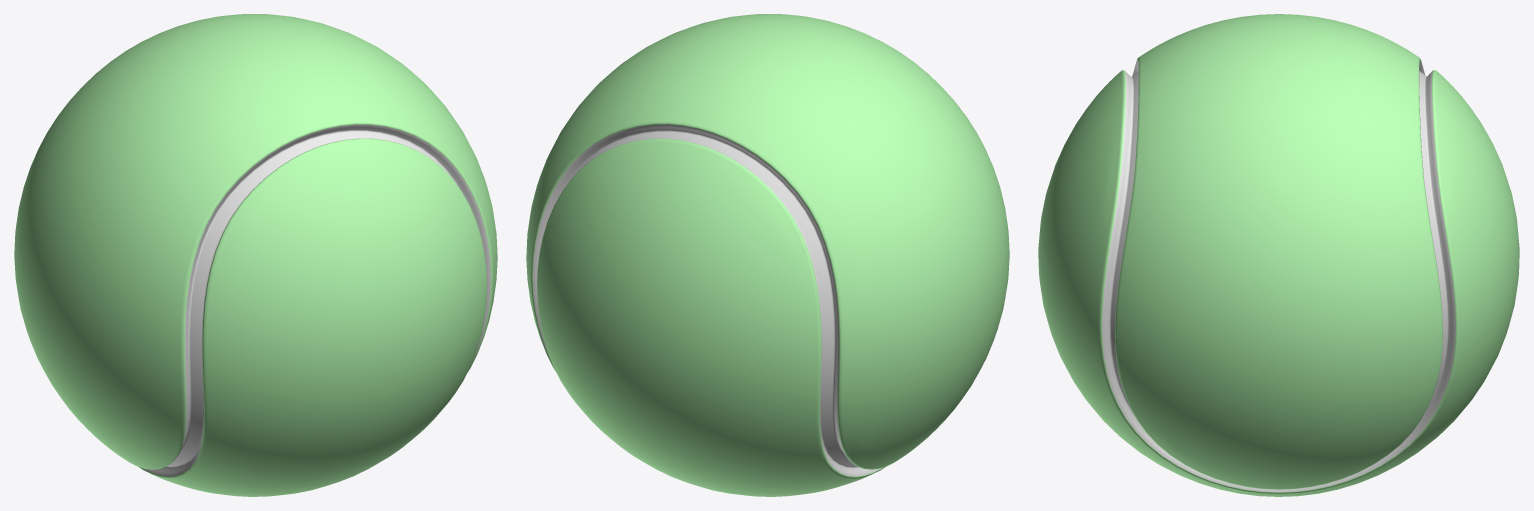
Rendered from fixedtennisball.fbx.
3 views of the same model, side by side, from view 1: azimuth 30°, elevation 25°; view 2: azimuth 150°, elevation 25°; view 3: azimuth 270°, elevation 25° (orthographic).
Visible parts, largest first — view 1: pPlatonic1; view 2: pPlatonic1; view 3: pPlatonic1.
Part boxes in pixels (x1,y1,x2,y2): pPlatonic1: [14, 14, 497, 496]; pPlatonic1: [526, 14, 1009, 496]; pPlatonic1: [1038, 14, 1519, 496].
Size of the model in its own units: 2.37 by 2.37 by 2.37.
